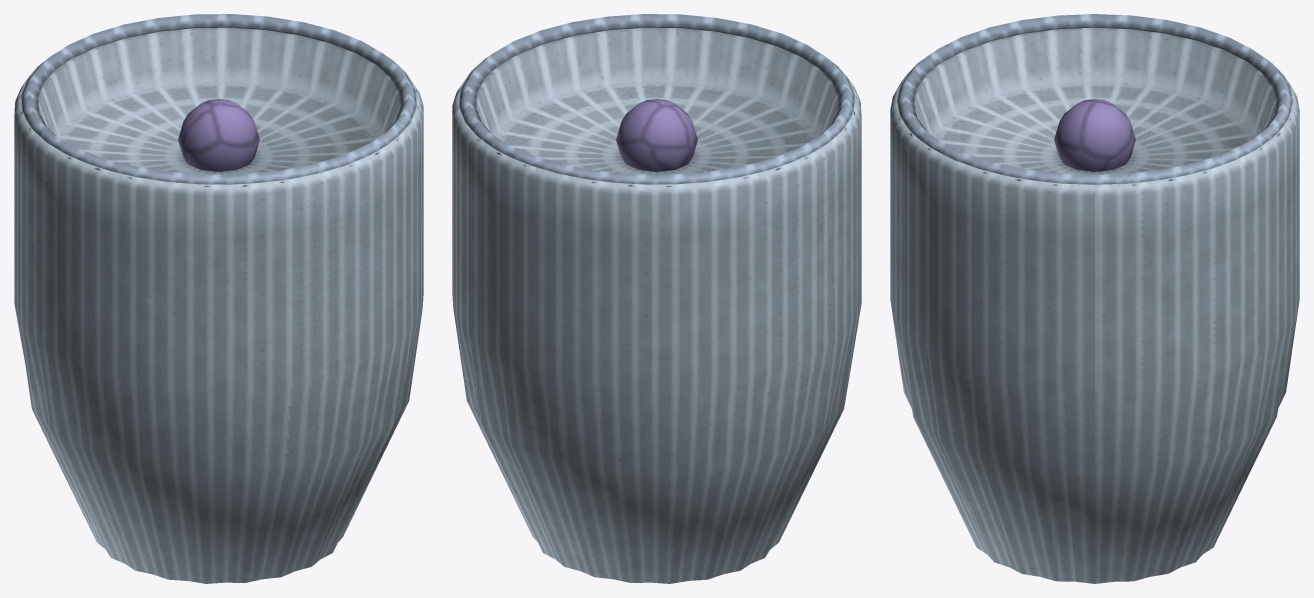
The model's file is shell_b1_rimmed_cup.glb.
3 renders of one model, left to right at view 1: azimuth 30°, elevation 25°; view 2: azimuth 150°, elevation 25°; view 3: azimuth 270°, elevation 25°, orthographic.
Visible parts, largest first — view 1: ShellB1RimmedCup; view 2: ShellB1RimmedCup; view 3: ShellB1RimmedCup.
Part boxes in pixels (<box>): ShellB1RimmedCup: <box>14,14,423,583</box>; ShellB1RimmedCup: <box>452,14,861,583</box>; ShellB1RimmedCup: <box>890,14,1299,583</box>.
Bounding box in the file's own units: 2 × 2.5 × 2.
3 materials, 3 textured.
